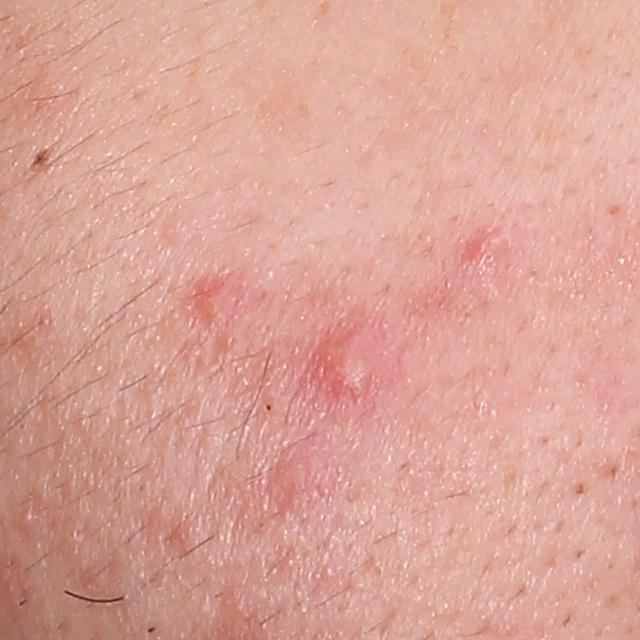papule: (320, 326, 370, 392), (194, 279, 231, 318)
